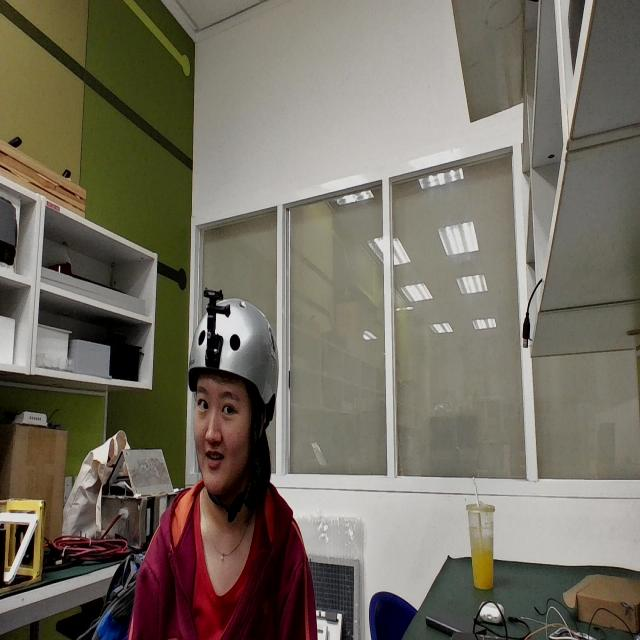With Helmet: (161, 269, 338, 542)
